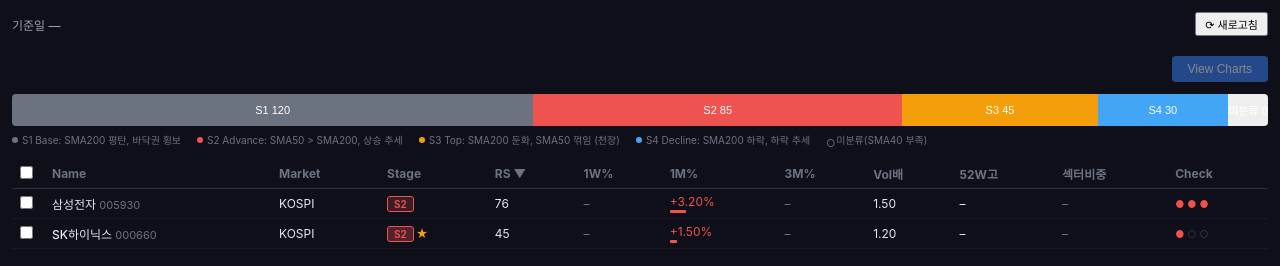
StockExplorer › AC-SUX-015 / TR-16: selectedSector change resets selectedStocks (no stale count)
Expected: the text "삼성전자" is shown, [52, 197, 96, 212]
// 2 stocks selected
Click the checkbox named "Select 삼성전자".
click(26, 202)  # box [20, 196, 33, 208]
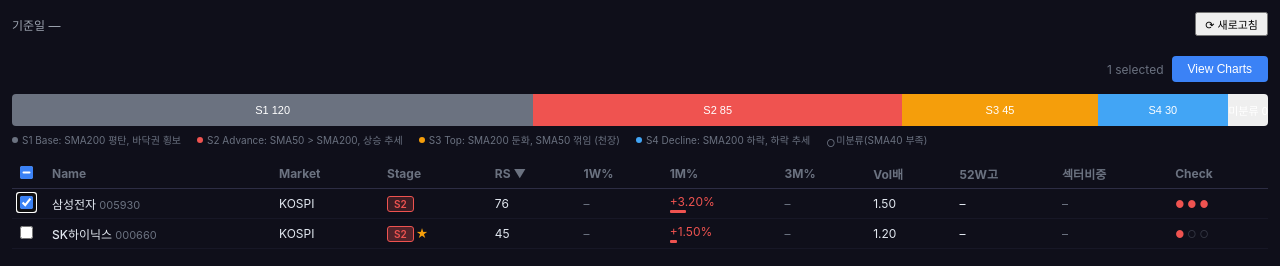
Click the checkbox named "Select SK하이닉스".
click(26, 232)  # box [20, 226, 33, 238]
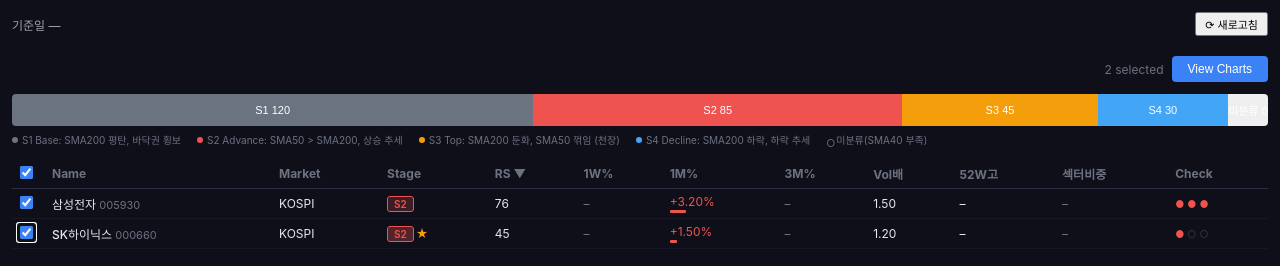
Expected: the text "2 selected" is shown, [1105, 62, 1164, 76]
